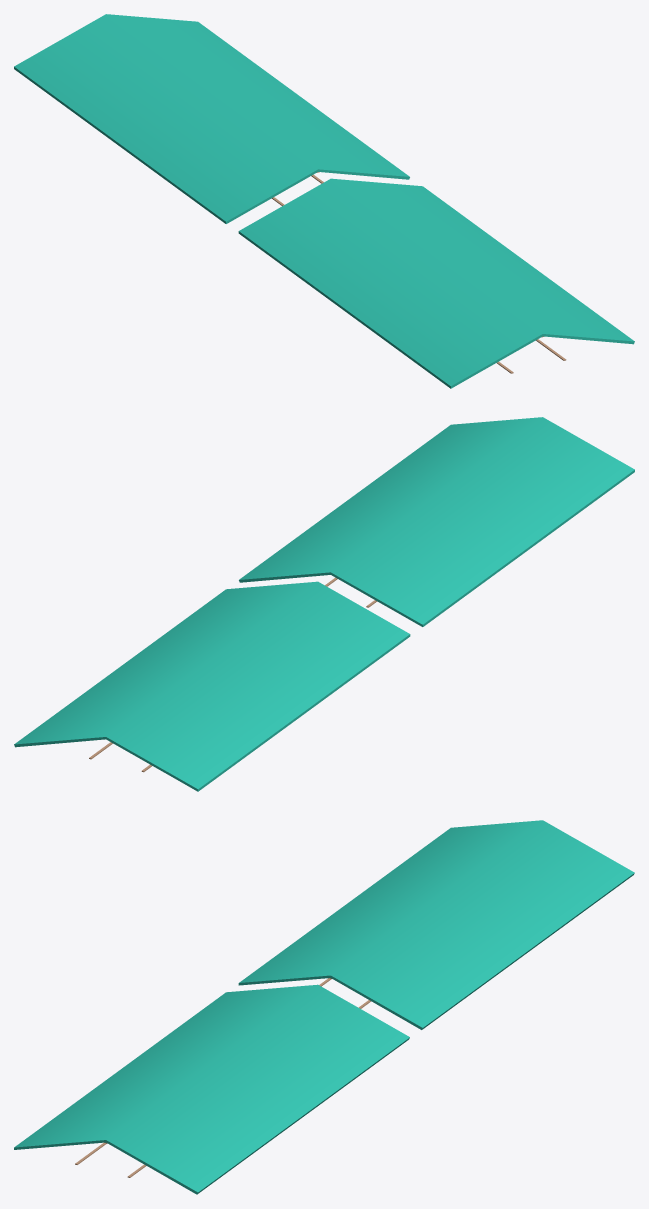
The model's file is Roof Warehouse.FBX.
3 views of the same model, one above another, from view 1: azimuth 30°, elevation 25°; view 2: azimuth 150°, elevation 25°; view 3: azimuth 330°, elevation 25° (orthographic).
Parts seen in each view (by area): view 1: Roof_Warehouse003, Roof_Warehouse002; view 2: Roof_Warehouse002, Roof_Warehouse003; view 3: Roof_Warehouse003, Roof_Warehouse002.
Part boxes in pixels (x1=…): Roof_Warehouse003: x1=238, y1=178, x2=634, y2=388; Roof_Warehouse002: x1=14, y1=14, x2=409, y2=223; Roof_Warehouse002: x1=14, y1=581, x2=410, y2=791; Roof_Warehouse003: x1=239, y1=417, x2=634, y2=626; Roof_Warehouse003: x1=14, y1=984, x2=409, y2=1194; Roof_Warehouse002: x1=238, y1=820, x2=634, y2=1029.
Bounding box in the file's own units: 2148 × 363 × 8827.
